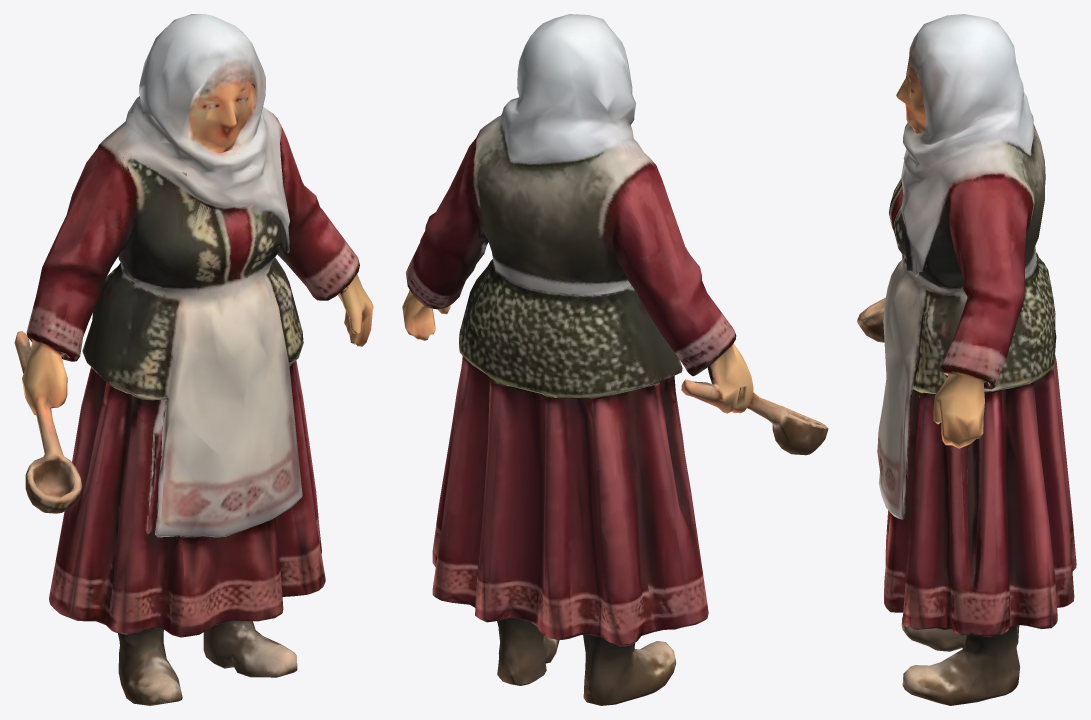
The model's file is cook.gen.glb.
The picture shows the model from 3 angles, left to right: view 1: azimuth 30°, elevation 25°; view 2: azimuth 150°, elevation 25°; view 3: azimuth 270°, elevation 25°; orthographic projection.
Visible parts, largest first — view 1: cook.raw; view 2: cook.raw; view 3: cook.raw.
Boxes of the visible parts, x1=… form: cook.raw: x1=14, y1=14, x2=373, y2=705; cook.raw: x1=402, y1=14, x2=828, y2=705; cook.raw: x1=857, y1=14, x2=1076, y2=705.
Size of the model in its own units: 1.06 by 1.75 by 0.5322.
1 material, 1 textured.
